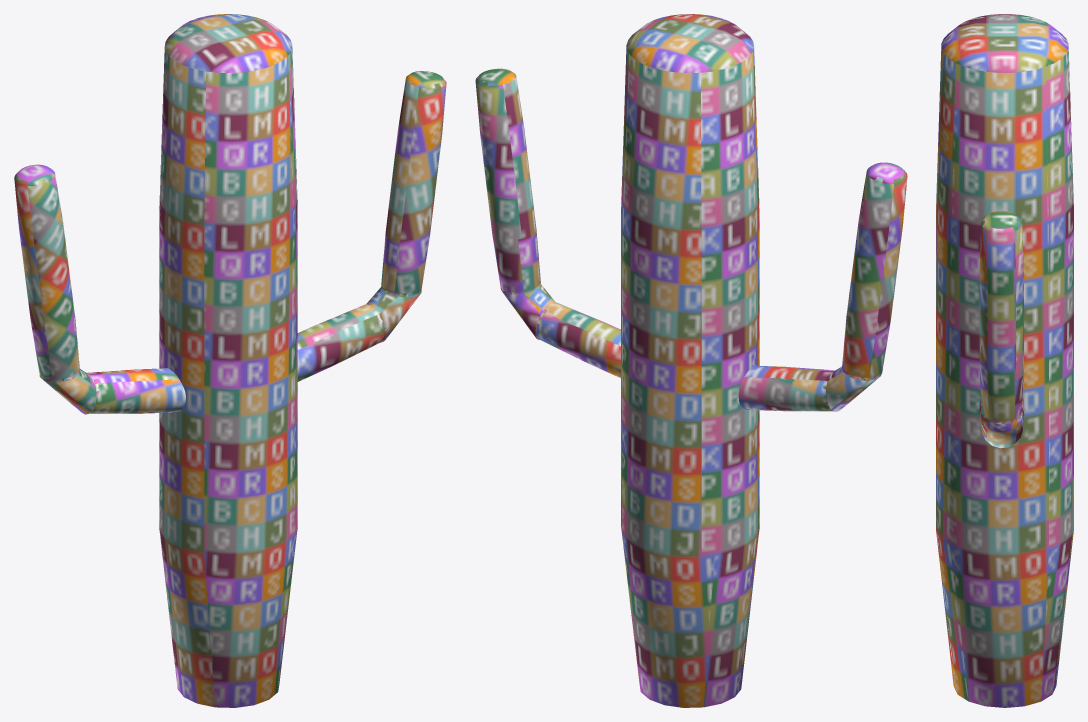
The model's file is Cacti_2.obj.
The picture shows the model from 3 angles, left to right: view 1: azimuth 30°, elevation 25°; view 2: azimuth 150°, elevation 25°; view 3: azimuth 270°, elevation 25°; orthographic projection.
Parts seen in each view (by area): view 1: Cylinder1, Cylinder1_sep2, Cylinder1_sep3; view 2: Cylinder1, Cylinder1_sep2, Cylinder1_sep3; view 3: Cylinder1, Cylinder1_sep2.
Part boxes in pixels (x1=…): Cylinder1: x1=159, y1=14, x2=297, y2=707; Cylinder1_sep2: x1=297, y1=71, x2=446, y2=381; Cylinder1_sep3: x1=14, y1=164, x2=185, y2=414; Cylinder1: x1=621, y1=14, x2=759, y2=707; Cylinder1_sep2: x1=475, y1=68, x2=620, y2=377; Cylinder1_sep3: x1=738, y1=162, x2=907, y2=411; Cylinder1: x1=936, y1=14, x2=1073, y2=707; Cylinder1_sep2: x1=979, y1=211, x2=1024, y2=448.
Bounding box in the file's own units: 7.01 × 10.28 × 1.96.
Materials: 1 (1 with a texture image).
